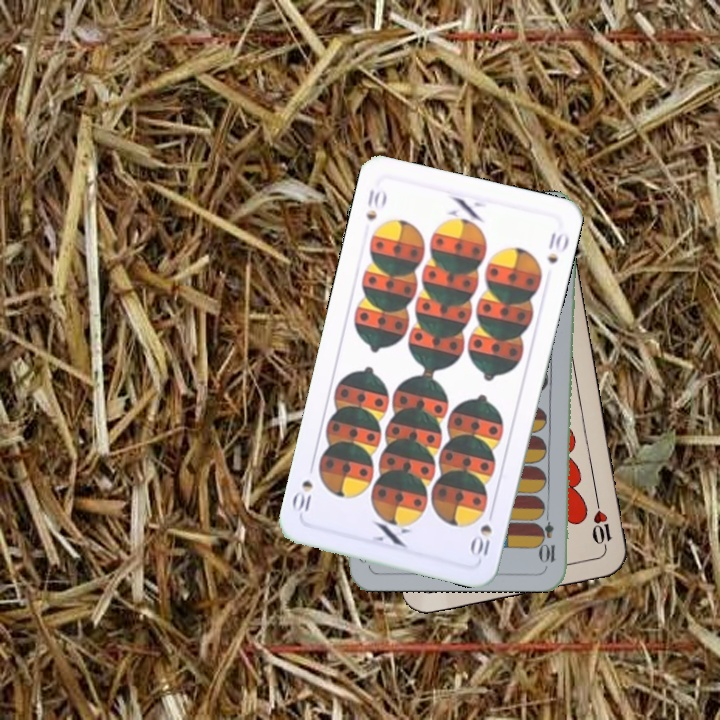E10: (540, 506, 558, 565)
H10: (588, 496, 614, 556)
S10: (468, 520, 495, 563), (361, 184, 389, 223)
